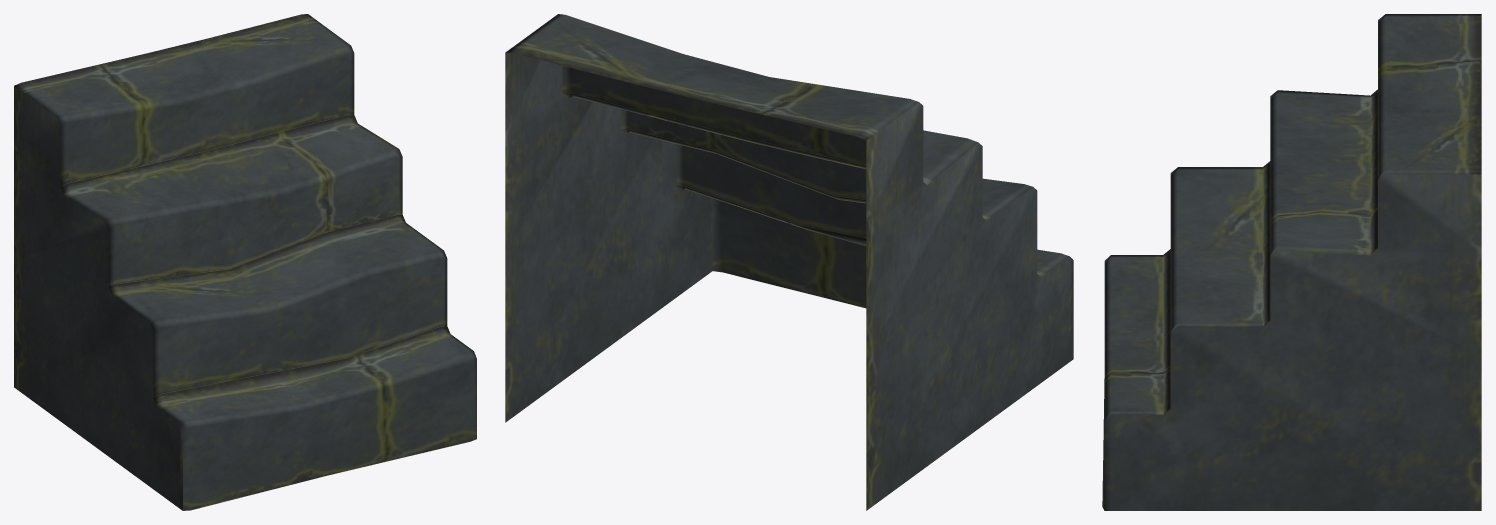
File: Terrain_Steps.fbx
3 views of the same model, side by side, from view 1: azimuth 30°, elevation 25°; view 2: azimuth 150°, elevation 25°; view 3: azimuth 270°, elevation 25° (orthographic). The views are drawn at different scales.
Parts seen in each view (by area): view 1: pCube5; view 2: pCube5; view 3: pCube5.
Boxes of the visible parts, x1=… form: pCube5: x1=14, y1=14, x2=476, y2=510; pCube5: x1=505, y1=14, x2=1073, y2=510; pCube5: x1=1102, y1=14, x2=1481, y2=510.
Size of the model in its own units: 100 by 98.88 by 100.
